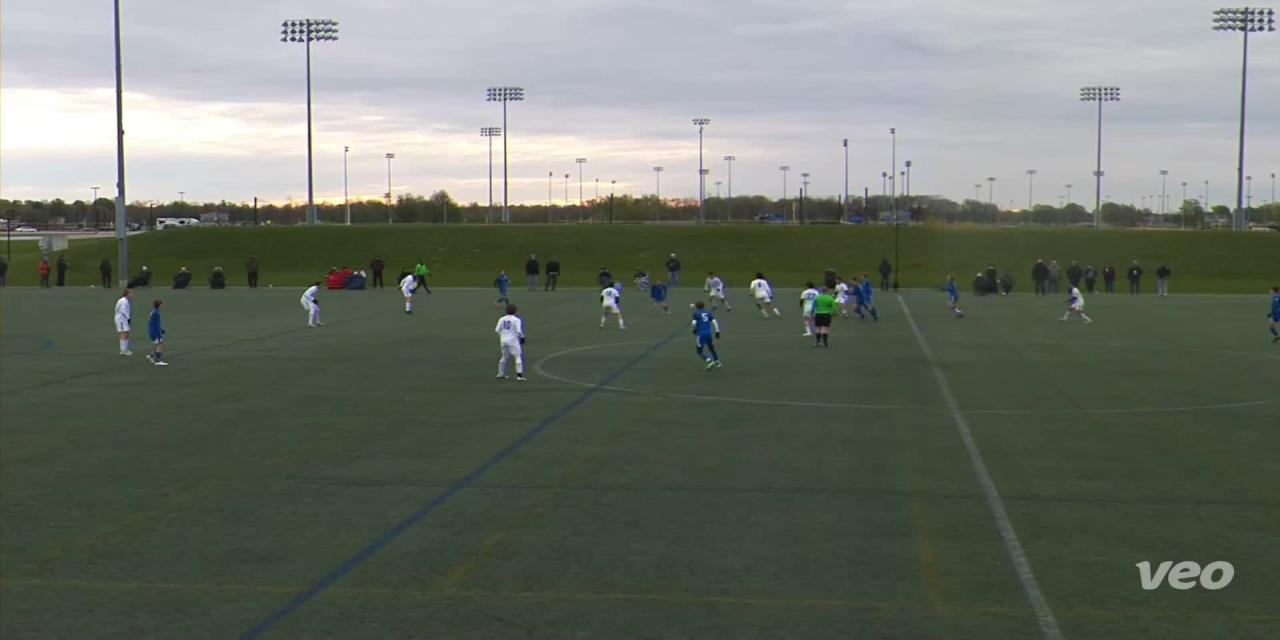sports ball: (683, 300, 700, 312)
